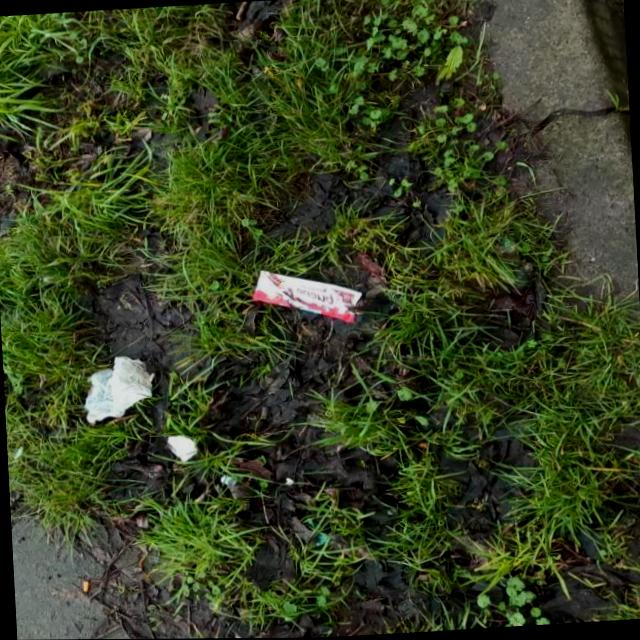Paper: (80, 354, 157, 425), (165, 434, 197, 465)
Plastic: (248, 265, 363, 330)
